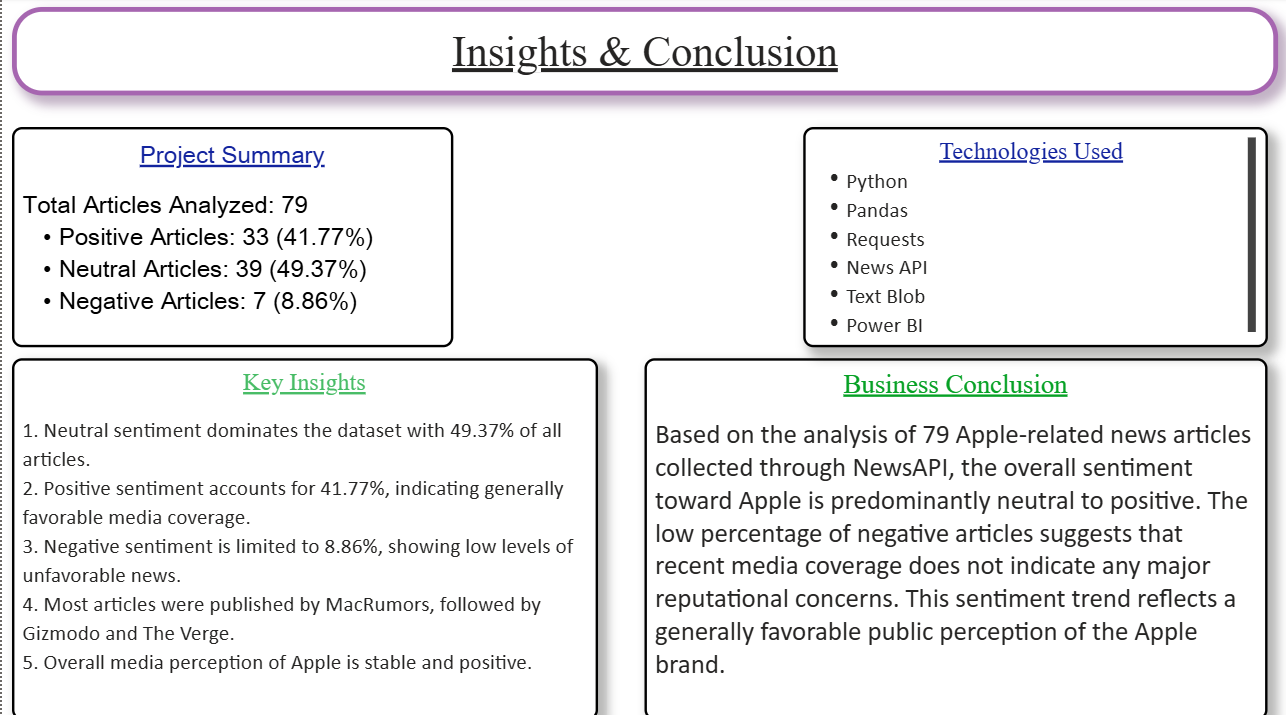

This screenshot's page, from the dashboard's own definition file:
{"tool":"powerbi","page":{"name":"Insights And Conclusion","canvas":[1280,720],"ordinal":1},"visuals":[{"type":"textbox","box":[10,10,1260.1,88.2],"z":0},{"type":"textbox","box":[10,129.4,439.5,219],"z":1},{"type":"textbox","box":[10,359.8,583.1,359.8],"z":2},{"type":"textbox","box":[640,359.8,620.1,359.8],"z":3},{"type":"textbox","box":[797.9,129.4,462.2,219],"z":4}]}

Visuals, with their boxes in screenshot pixels (x1, y1, x2, y2), scaled from the page's 1280x720 canvas onto the 1286x715 screenshot:
textbox: <box>10,10,1276,98</box>
textbox: <box>10,129,452,346</box>
textbox: <box>10,357,596,714</box>
textbox: <box>643,357,1266,714</box>
textbox: <box>802,129,1266,346</box>
